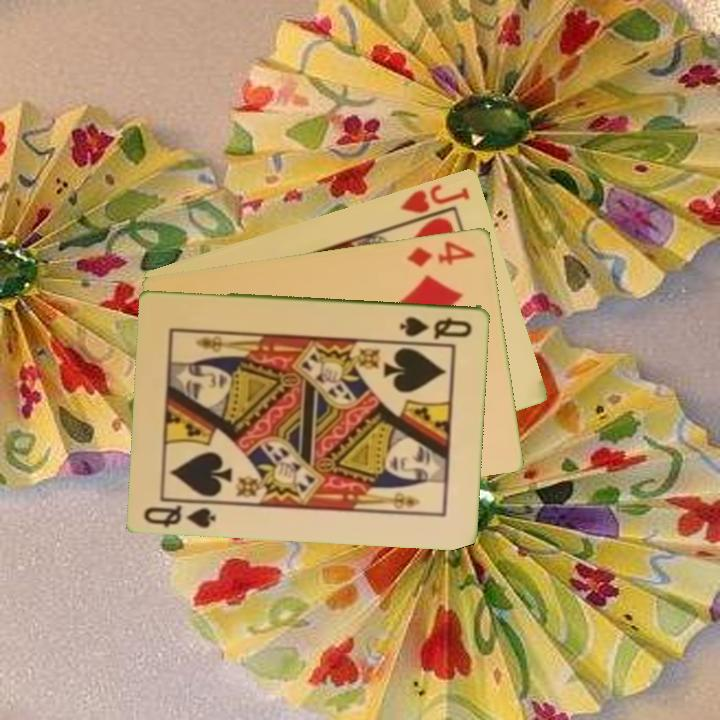4d: (404, 237, 478, 270)
Jh: (394, 180, 474, 227)
Qs: (141, 495, 222, 531), (397, 313, 475, 340)
